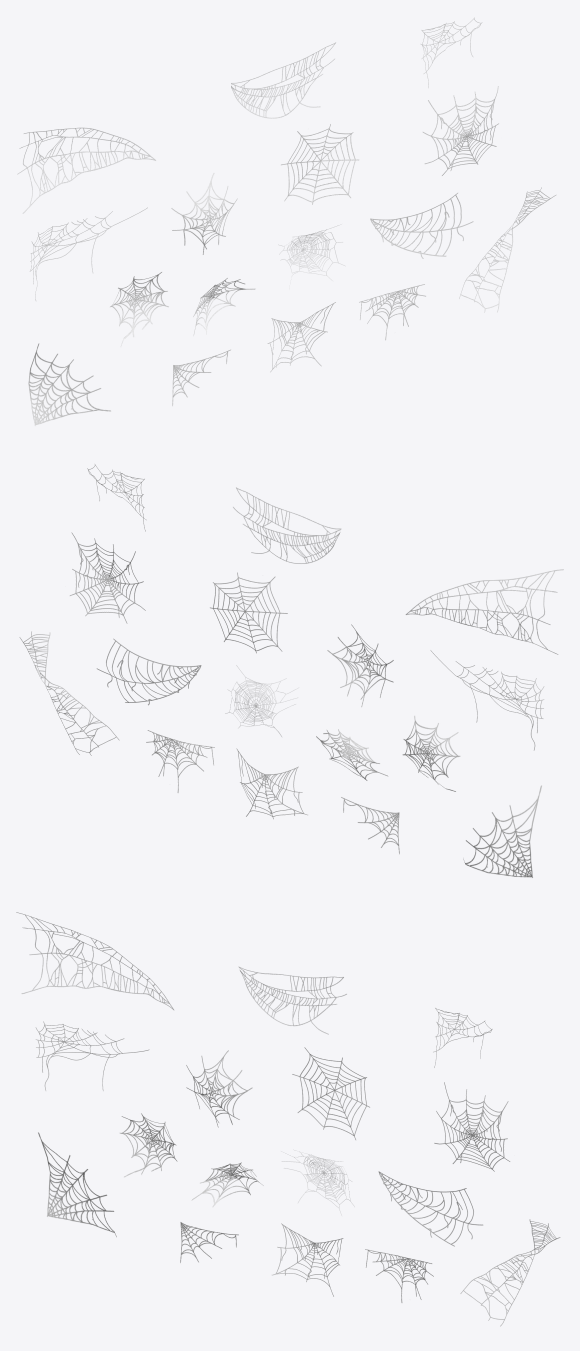
The model's file is cobwebs.glb.
3 renders of one model, top to bottom at view 1: azimuth 30°, elevation 25°; view 2: azimuth 150°, elevation 25°; view 3: azimuth 330°, elevation 25°, orthographic.
Visible parts, largest first — view 1: SM_Cobwebs_07, SM_Cobwebs_05, SM_Cobwebs_15, SM_Cobwebs_06, SM_Cobwebs_11, SM_Cobwebs_03, SM_Cobwebs_16, SM_Cobwebs_14, SM_Cobwebs_08, SM_Cobwebs_10, SM_Cobwebs_13, SM_Cobwebs_02 (+4 smaller); view 2: SM_Cobwebs_07, SM_Cobwebs_15, SM_Cobwebs_05, SM_Cobwebs_11, SM_Cobwebs_06, SM_Cobwebs_08, SM_Cobwebs_03, SM_Cobwebs_16, SM_Cobwebs_14, SM_Cobwebs_10, SM_Cobwebs_13, SM_Cobwebs_09 (+4 smaller); view 3: SM_Cobwebs_07, SM_Cobwebs_05, SM_Cobwebs_15, SM_Cobwebs_06, SM_Cobwebs_11, SM_Cobwebs_08, SM_Cobwebs_16, SM_Cobwebs_03, SM_Cobwebs_14, SM_Cobwebs_10, SM_Cobwebs_13, SM_Cobwebs_09 (+4 smaller).
Boxes of the visible parts, <box> form: SM_Cobwebs_07: <box>17,127,155,213</box>; SM_Cobwebs_05: <box>423,86,498,175</box>; SM_Cobwebs_15: <box>28,343,110,425</box>; SM_Cobwebs_06: <box>281,124,358,204</box>; SM_Cobwebs_11: <box>231,42,335,118</box>; SM_Cobwebs_03: <box>110,272,168,346</box>; SM_Cobwebs_16: <box>370,193,473,258</box>; SM_Cobwebs_14: <box>171,173,237,254</box>; SM_Cobwebs_08: <box>459,187,555,312</box>; SM_Cobwebs_10: <box>267,302,335,372</box>; SM_Cobwebs_13: <box>30,207,147,300</box>; SM_Cobwebs_02: <box>359,284,425,340</box>; SM_Cobwebs_07: <box>406,569,563,654</box>; SM_Cobwebs_15: <box>463,785,541,877</box>; SM_Cobwebs_05: <box>70,533,145,623</box>; SM_Cobwebs_11: <box>233,487,340,563</box>; SM_Cobwebs_06: <box>210,572,287,653</box>; SM_Cobwebs_08: <box>19,631,119,755</box>; SM_Cobwebs_03: <box>402,716,460,791</box>; SM_Cobwebs_16: <box>97,638,201,705</box>; SM_Cobwebs_14: <box>327,624,393,706</box>; SM_Cobwebs_10: <box>236,748,307,818</box>; SM_Cobwebs_13: <box>430,650,544,750</box>; SM_Cobwebs_09: <box>316,729,387,780</box>; SM_Cobwebs_07: <box>16,912,173,1009</box>; SM_Cobwebs_05: <box>434,1082,509,1171</box>; SM_Cobwebs_15: <box>38,1132,116,1236</box>; SM_Cobwebs_06: <box>292,1047,369,1139</box>; SM_Cobwebs_11: <box>239,967,346,1034</box>; SM_Cobwebs_08: <box>460,1219,560,1326</box>; SM_Cobwebs_16: <box>378,1171,482,1246</box>; SM_Cobwebs_03: <box>120,1113,177,1177</box>; SM_Cobwebs_14: <box>186,1050,252,1127</box>; SM_Cobwebs_10: <box>272,1223,343,1296</box>; SM_Cobwebs_13: <box>36,1021,148,1090</box>; SM_Cobwebs_09: <box>191,1162,263,1206</box>.
Bounding box in the file's own units: 5.67 × 3.34 × 0.2823.
1 material, 1 textured.
